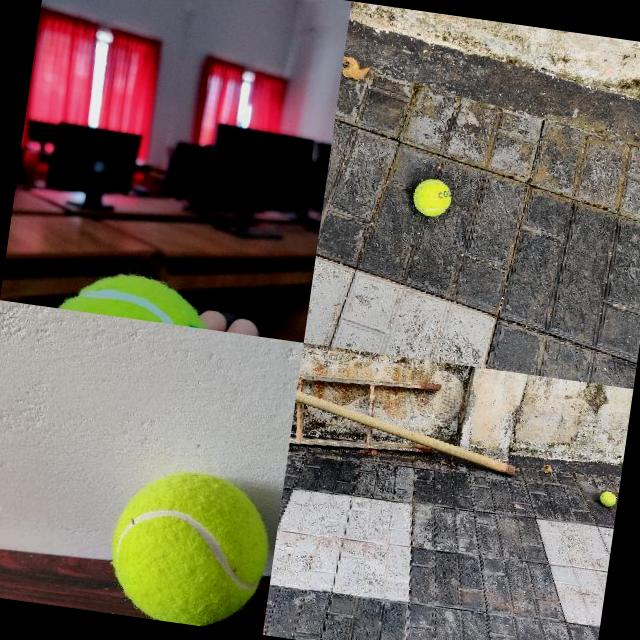Tennis Ball: (102, 462, 278, 634), (44, 264, 228, 330), (410, 176, 454, 219), (599, 491, 617, 508)
